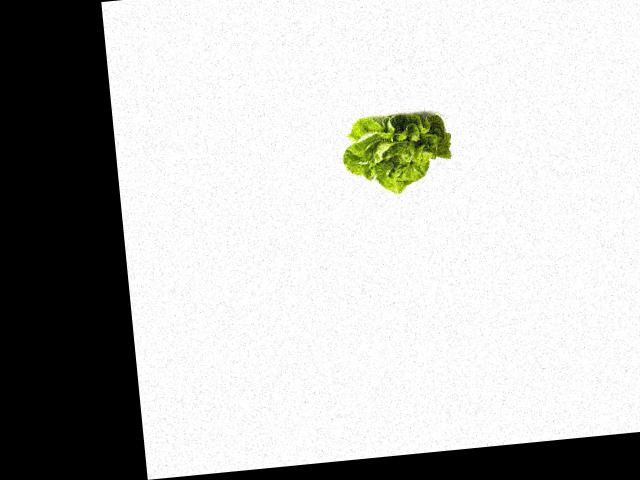lettuce: (335, 108, 457, 198)
